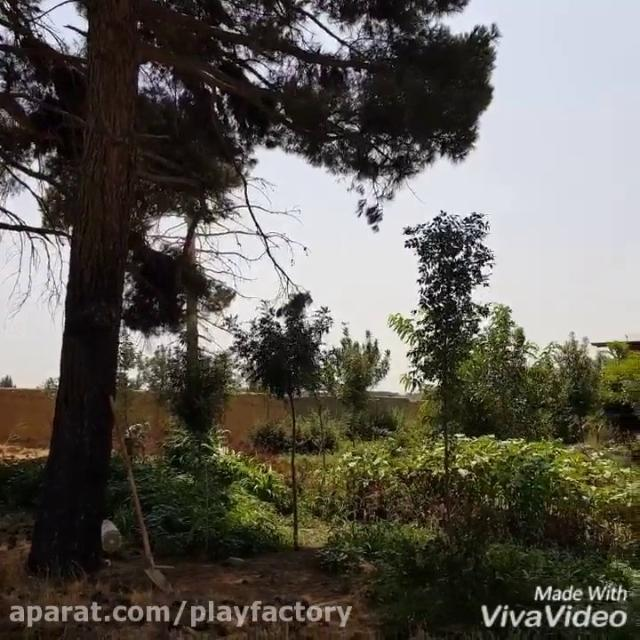drone: (340, 318, 352, 326)
